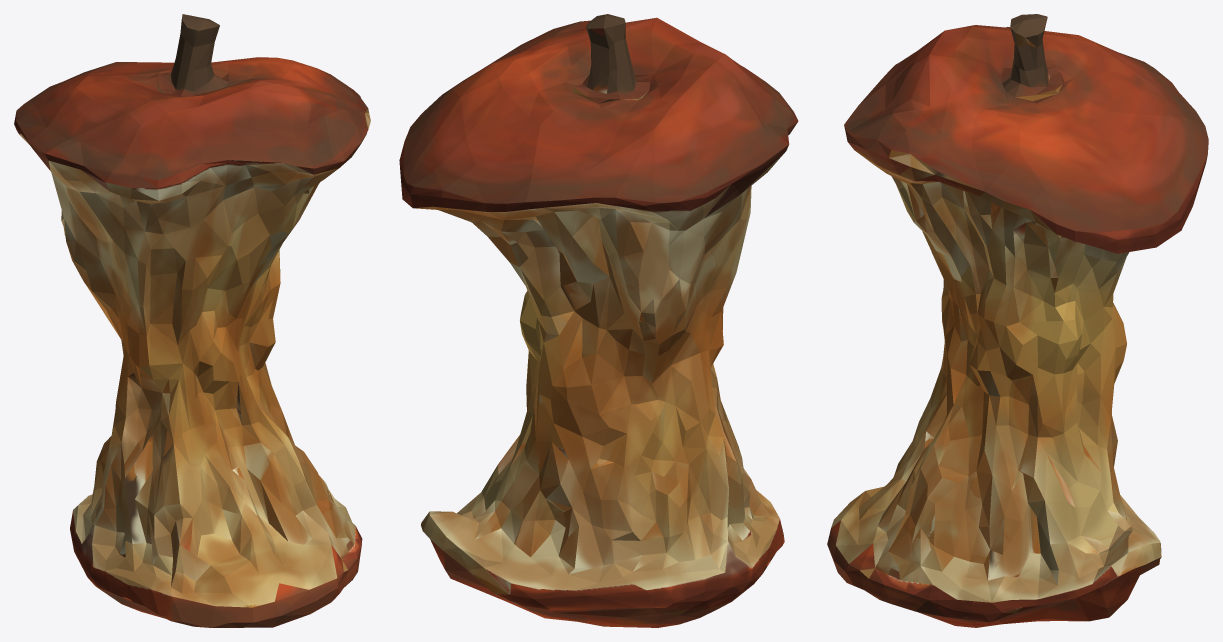
File: rotten apple_0.fbx
3 renders of one model, left to right at view 1: azimuth 30°, elevation 25°; view 2: azimuth 150°, elevation 25°; view 3: azimuth 270°, elevation 25°, orthographic. The views are drawn at different scales.
Visible parts, largest first — view 1: applee.002; view 2: applee.002; view 3: applee.002.
Part boxes in pixels (<box>): applee.002: <box>14,14,370,627</box>; applee.002: <box>399,14,798,627</box>; applee.002: <box>827,14,1208,627</box>.
Bounding box in the file's own units: 705 × 1169 × 694.
1 material, 1 textured.
